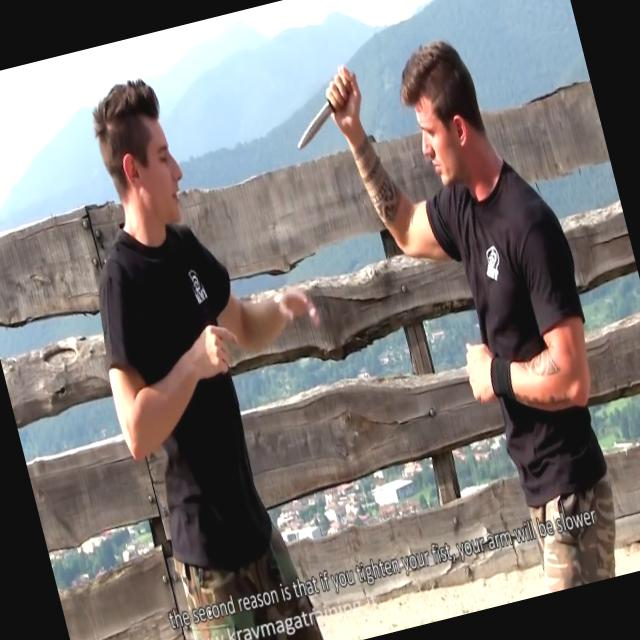knife: (274, 58, 372, 154)
